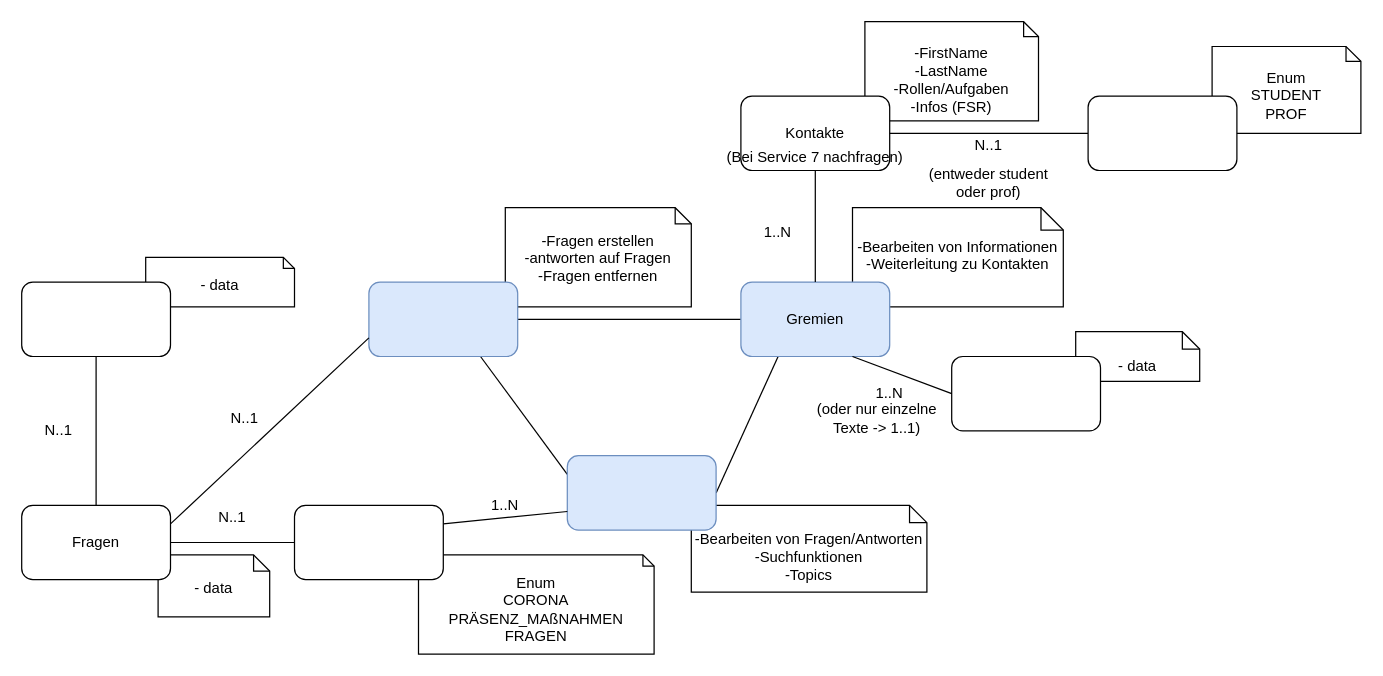
This 1383x676 diagram has some shape labels left out. The shapes that lost their labels are listed below. From the top down, each one's centre as x and y in pixels, then its label:
At (1162,132): "Rollen/Aufgaben".
At (95,318): "Antworten".
At (443,318): "Forum".
At (1025,393): "Informationen".
At (641,492): "FAQ".
At (368,542): "Topic".
